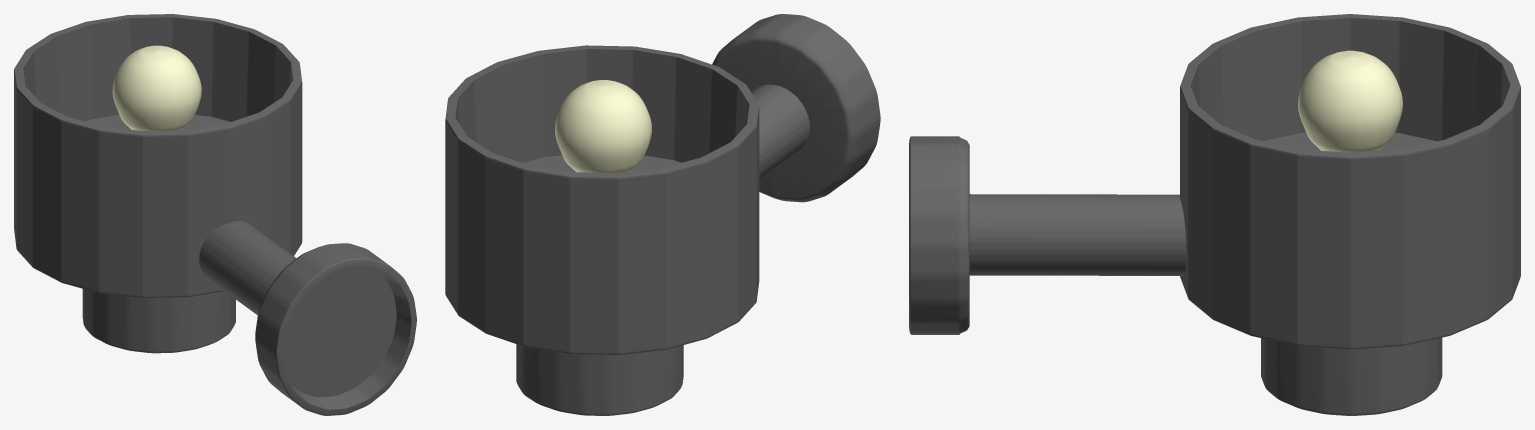
The model's file is Bulb Lamp Model.fbx.
3 views of the same model, side by side, from view 1: azimuth 30°, elevation 25°; view 2: azimuth 150°, elevation 25°; view 3: azimuth 270°, elevation 25° (orthographic). The views are drawn at different scales.
Visible parts, largest first — view 1: pCylinder103, frostedBulb1Main; view 2: pCylinder103, frostedBulb1Main; view 3: pCylinder103, frostedBulb1Main.
Part boxes in pixels (bbox=[...]): pCylinder103: bbox=[14, 14, 416, 415]; frostedBulb1Main: bbox=[112, 45, 201, 130]; pCylinder103: bbox=[445, 14, 880, 415]; frostedBulb1Main: bbox=[555, 80, 651, 172]; pCylinder103: bbox=[909, 14, 1520, 415]; frostedBulb1Main: bbox=[1298, 50, 1402, 152].
Bounding box in the file's own units: 1.43 × 1.49 × 2.56.
